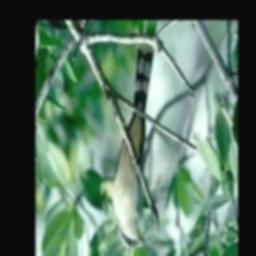Cuckoo: (113, 41, 155, 249)
